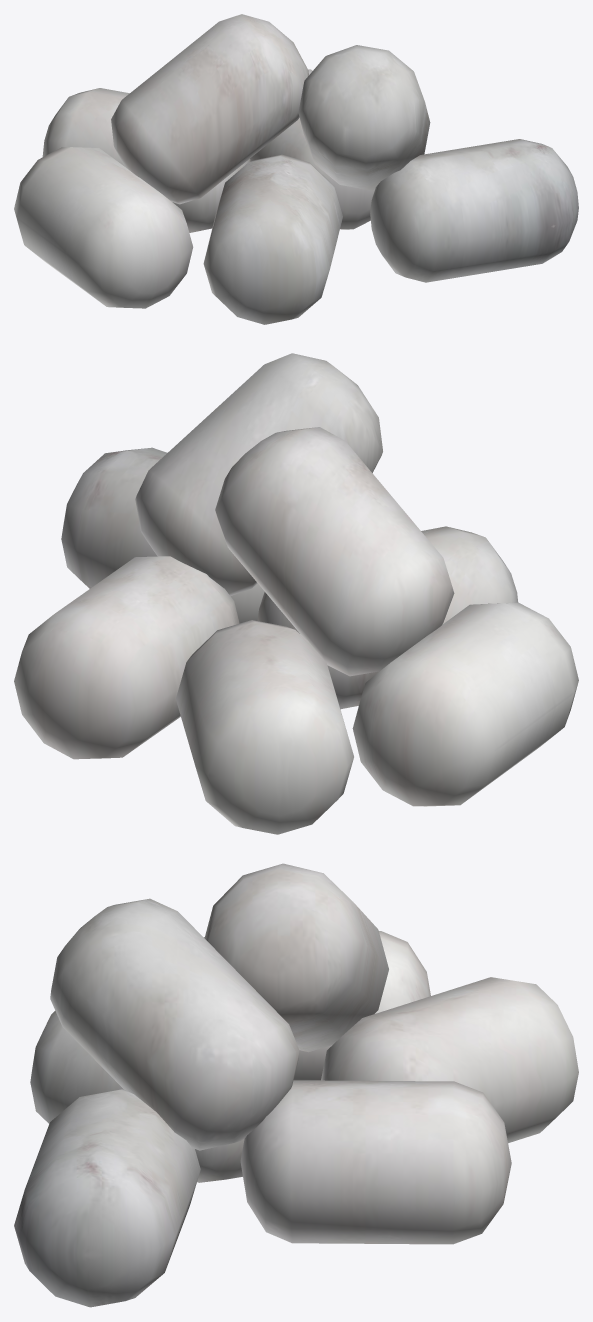
The model's file is Kapas_steril.fbx.
3 renders of one model, top to bottom at view 1: azimuth 30°, elevation 25°; view 2: azimuth 150°, elevation 25°; view 3: azimuth 270°, elevation 25°, orthographic. The views are drawn at different scales.
Visible parts, largest first — view 1: Kapas_steril; view 2: Kapas_steril; view 3: Kapas_steril.
Boxes of the visible parts, x1,y1,x2,y2 form: Kapas_steril: (14, 14, 578, 324); Kapas_steril: (14, 353, 578, 834); Kapas_steril: (14, 863, 578, 1307).
Size of the model in its own units: 12.19 by 6.22 by 10.5.
Materials: 1 (1 with a texture image).
